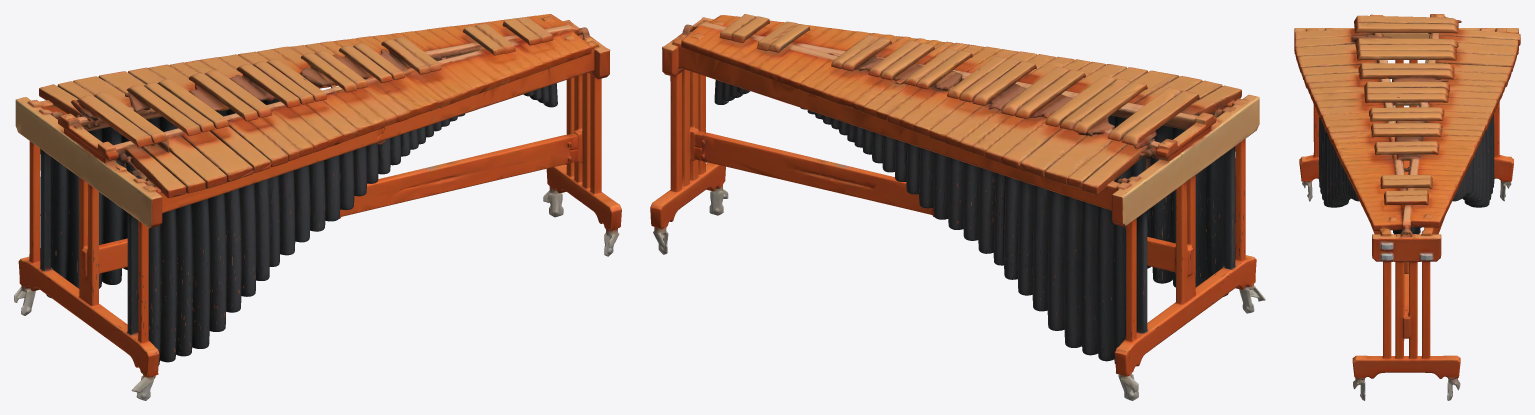
File: marimba.glb
The picture shows the model from 3 angles, left to right: view 1: azimuth 30°, elevation 25°; view 2: azimuth 150°, elevation 25°; view 3: azimuth 270°, elevation 25°; orthographic projection. The views are drawn at different scales.
Parts seen in each view (by area): view 1: tripo_node_55d2ac94-8d4d-4885-8576-871e1171d5a7; view 2: tripo_node_55d2ac94-8d4d-4885-8576-871e1171d5a7; view 3: tripo_node_55d2ac94-8d4d-4885-8576-871e1171d5a7.
Boxes of the visible parts, x1=… form: tripo_node_55d2ac94-8d4d-4885-8576-871e1171d5a7: x1=14, y1=14, x2=621, y2=400; tripo_node_55d2ac94-8d4d-4885-8576-871e1171d5a7: x1=650, y1=14, x2=1265, y2=400; tripo_node_55d2ac94-8d4d-4885-8576-871e1171d5a7: x1=1294, y1=14, x2=1520, y2=400.
Size of the model in its own units: 0.9845 by 0.4249 by 0.4493.
Materials: 1 (1 with a texture image).
